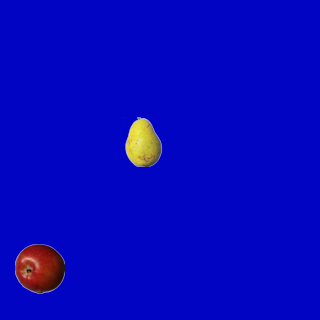Apple Braeburn: (14, 243, 64, 293)
Pear Monster: (118, 116, 168, 166)
